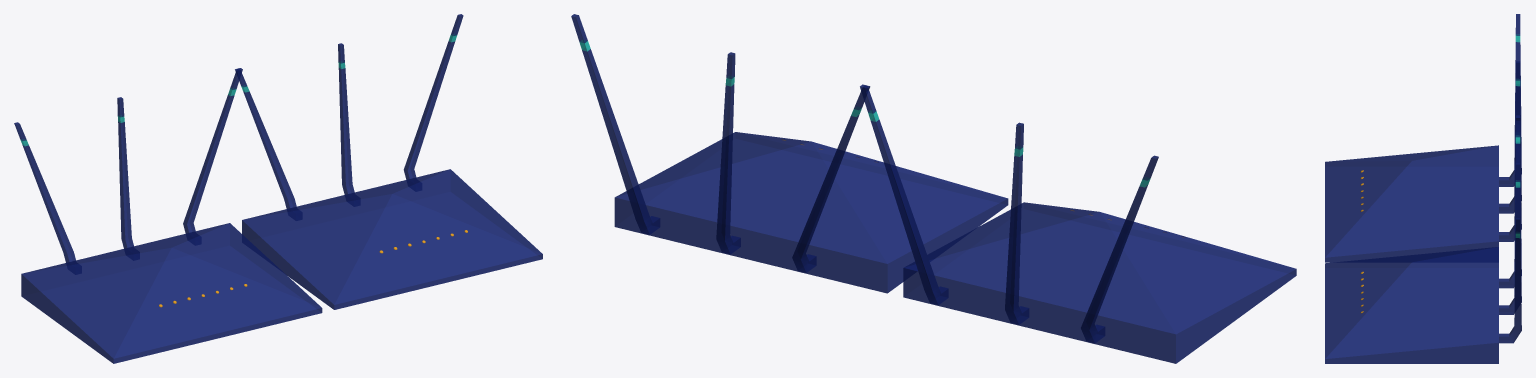
The model's file is luyouqiuzu.FBX.
3 views of the same model, side by side, from view 1: azimuth 30°, elevation 25°; view 2: azimuth 150°, elevation 25°; view 3: azimuth 270°, elevation 25° (orthographic). The views are drawn at different scales.
Parts seen in each view (by area): view 1: Box219, Box220; view 2: Box219, Box220; view 3: Box220, Box219.
Part boxes in pixels (box(x1,y1,x2,y2)): Box219: box(14, 68, 322, 363); Box220: box(235, 14, 542, 309); Box219: box(860, 84, 1296, 363); Box220: box(571, 14, 1008, 293); Box220: box(1325, 115, 1521, 363); Box219: box(1325, 14, 1521, 262).
Size of the model in its own units: 1022 by 355 by 410.
